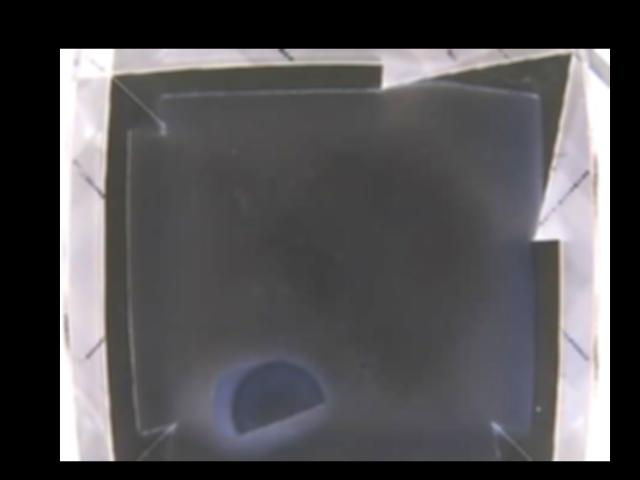Mooli: (211, 359, 327, 436)
